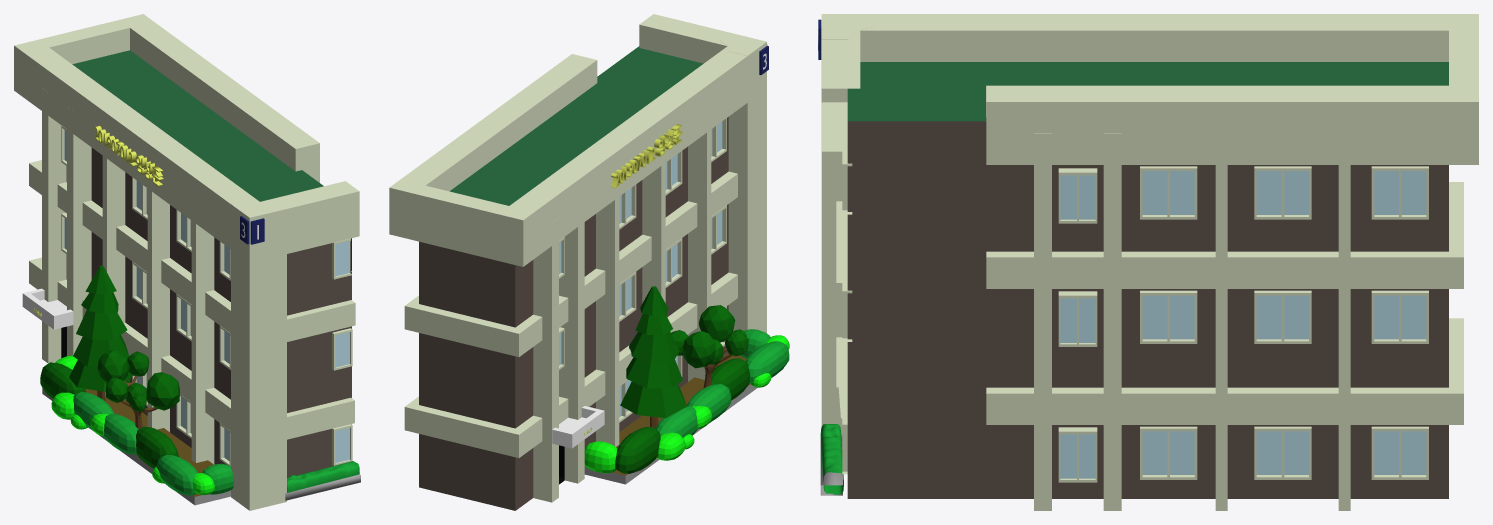
The picture shows the model from 3 angles, left to right: view 1: azimuth 30°, elevation 25°; view 2: azimuth 150°, elevation 25°; view 3: azimuth 270°, elevation 25°; orthographic projection. The views are drawn at different scales.
Parts seen in each view (by area): view 1: B1-B3.001; view 2: B1-B3.001; view 3: B1-B3.001.
Part boxes in pixels (<box>): B1-B3.001: <box>14,14,360,510</box>; B1-B3.001: <box>389,14,789,510</box>; B1-B3.001: <box>818,14,1478,510</box>.
Size of the model in its own units: 102 by 150 by 220.
